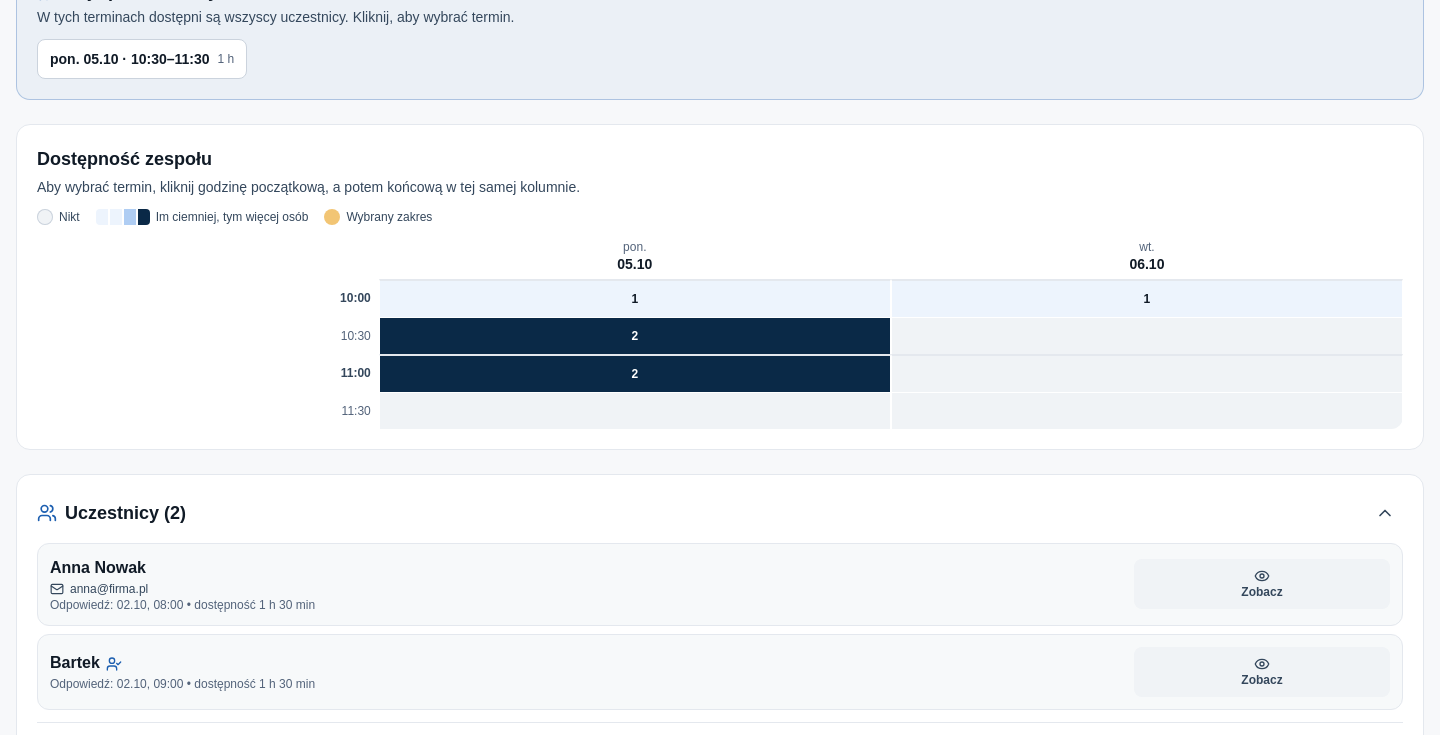
MeetingPollResults › wraca do widoku wszystkich przyciskiem „Pokaż wszystkich”
(page scrolled)
Step 1. Click the button with aria-label "Zobacz dostępność: Bartek" → (1262, 672), box x1=1134 y1=647 x2=1390 y2=697
(page scrolled)
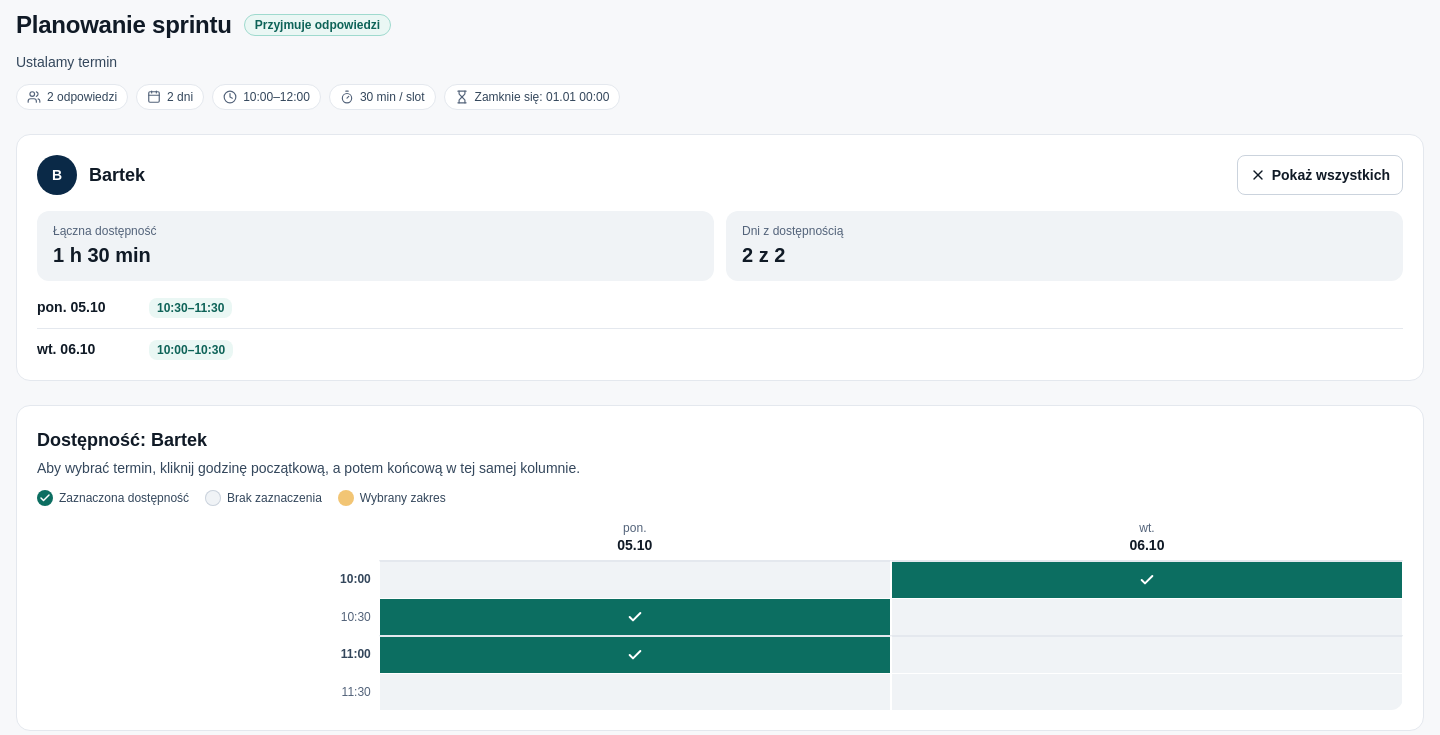
Step 2. Click the button "Pokaż wszystkich" → (1320, 175), box x1=1237 y1=155 x2=1403 y2=195
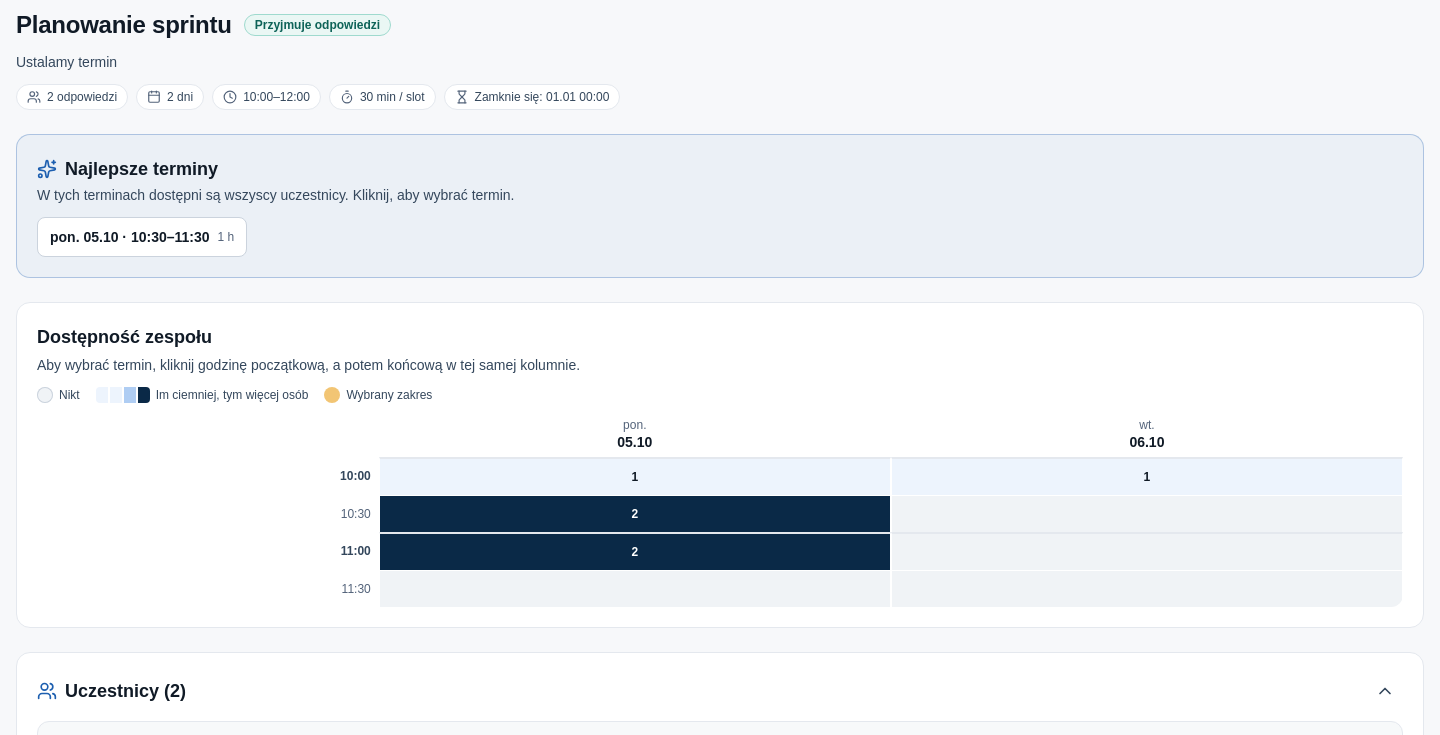
Expected: the element "Bartek" is not shown
Expected: the element "Najlepsze terminy" is shown, x1=16 y1=134 x2=1424 y2=278
